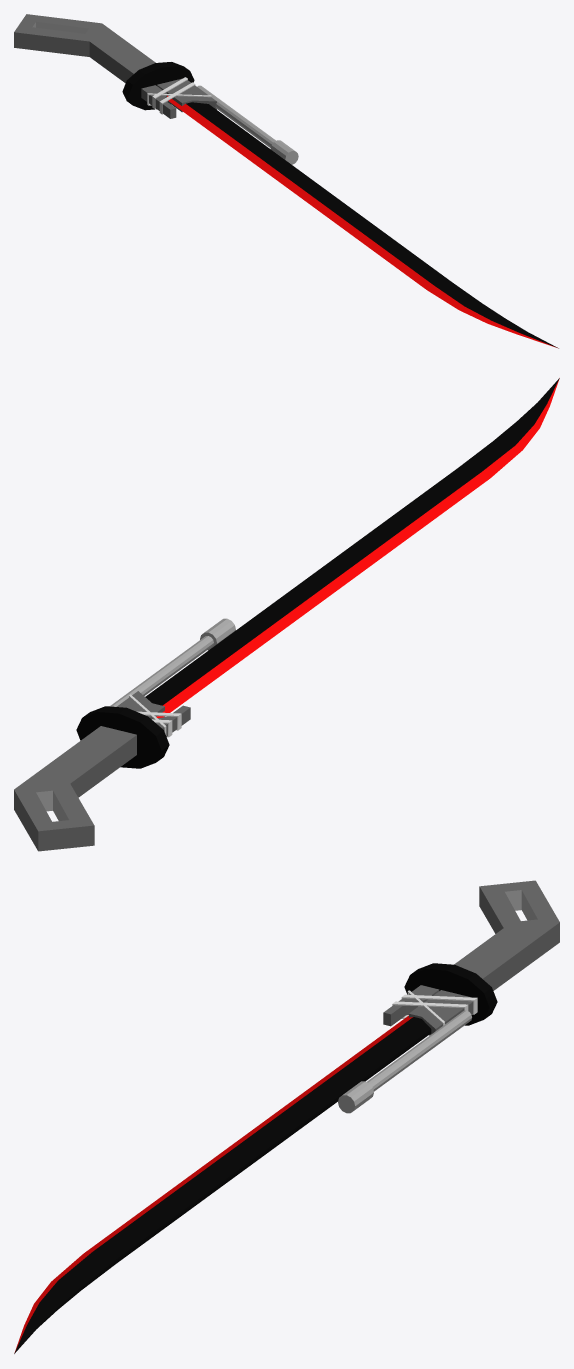
File: katana_kari.fbx
The picture shows the model from 3 angles, top to bottom: view 1: azimuth 30°, elevation 25°; view 2: azimuth 150°, elevation 25°; view 3: azimuth 330°, elevation 25°; orthographic projection. The views are drawn at different scales.
Parts seen in each view (by area): view 1: katana_kari; view 2: katana_kari; view 3: katana_kari.
Boxes of the visible parts, x1,y1,x2,y2 form: katana_kari: (14,14,558,348); katana_kari: (14,378,559,851); katana_kari: (14,880,559,1353).
Bounding box in the file's own units: 17.79 × 7.48 × 153.
